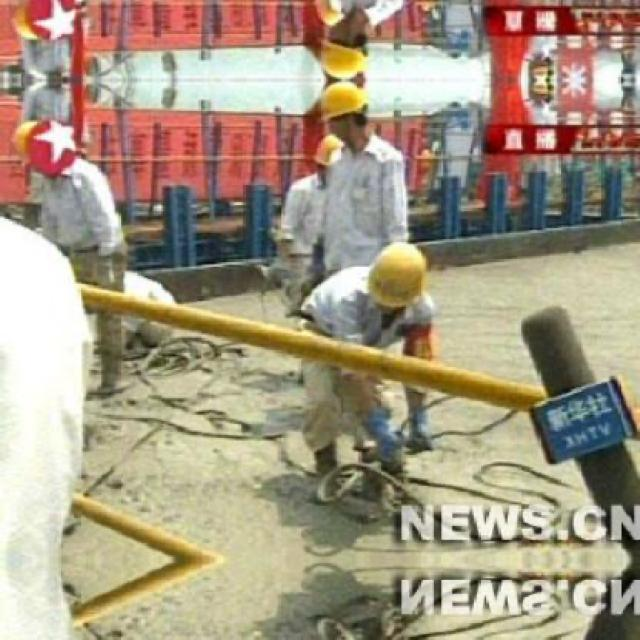helmet: (362, 239, 426, 318), (315, 80, 374, 147), (315, 15, 374, 82)
